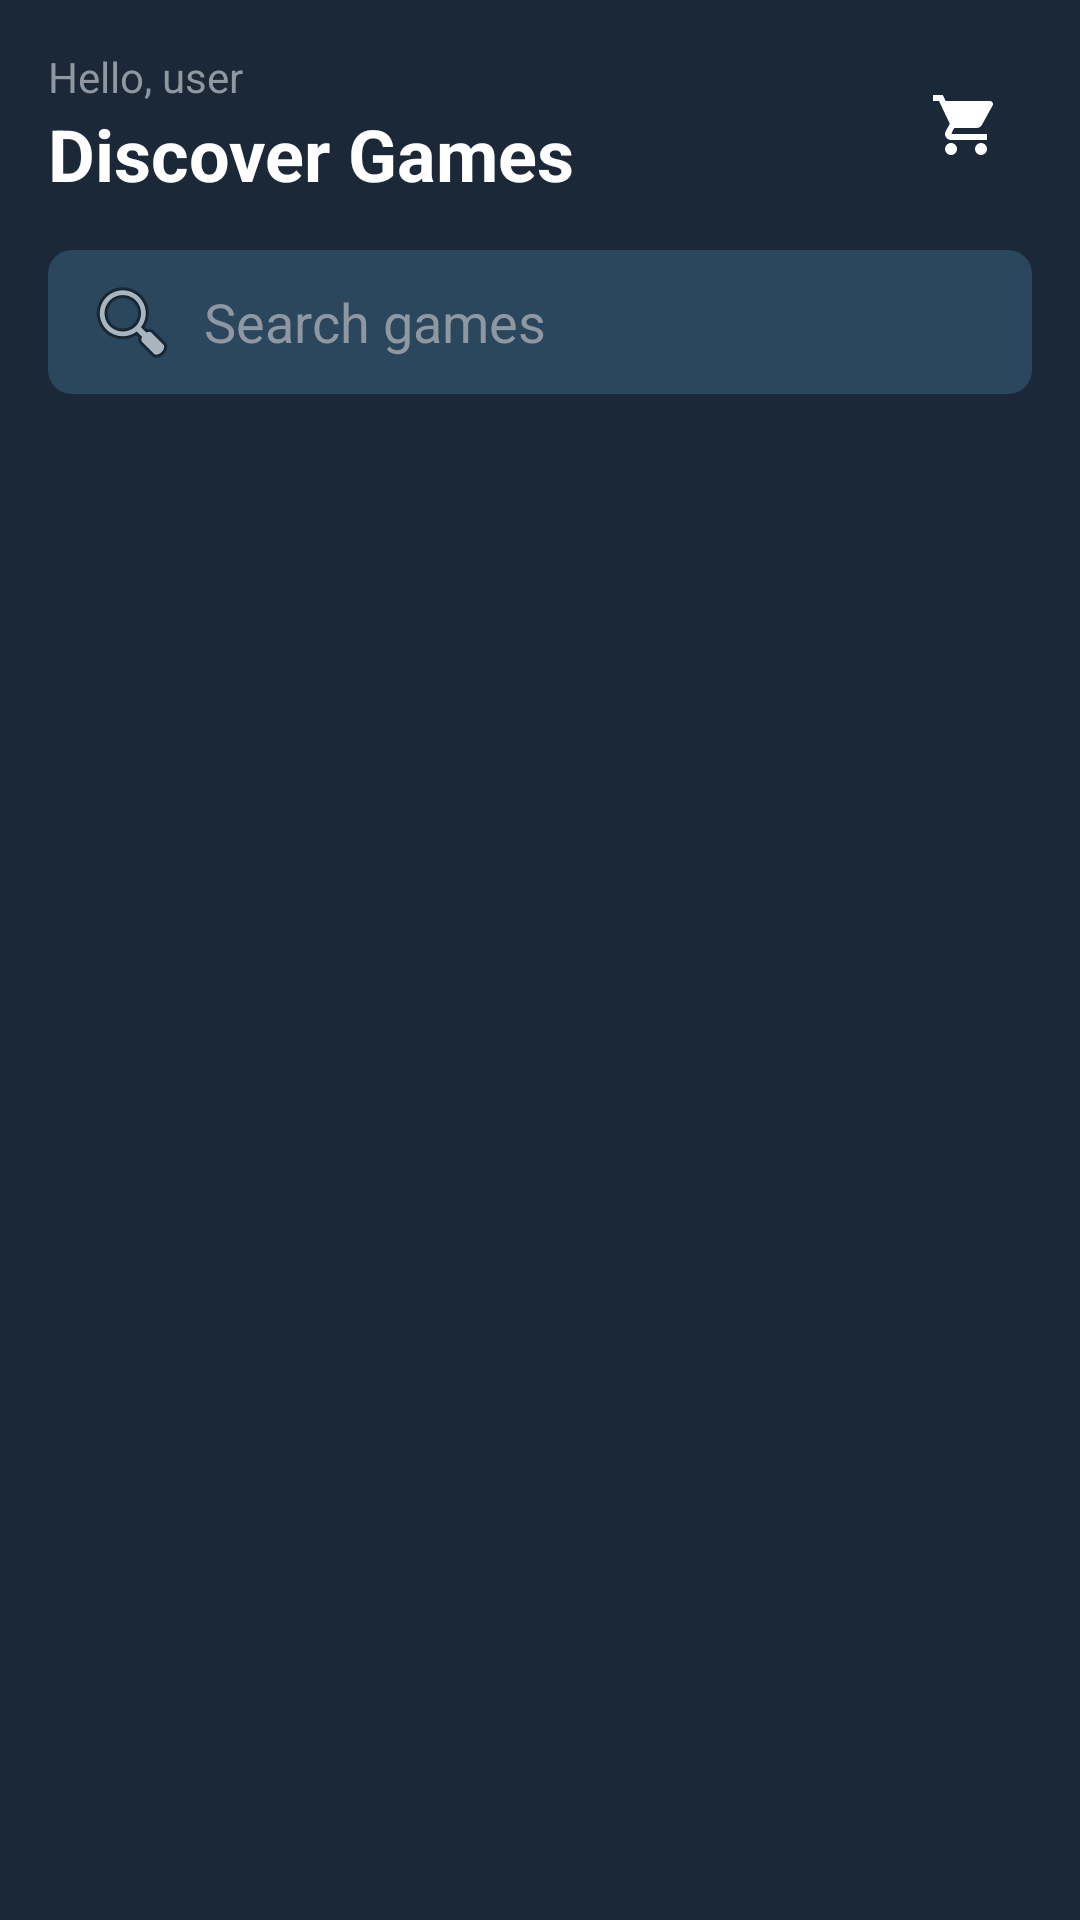

Icon click points for this 1080px x 1920px phone screenshot, format (x=x, y=y):
shopping cart: (x=963, y=125)
